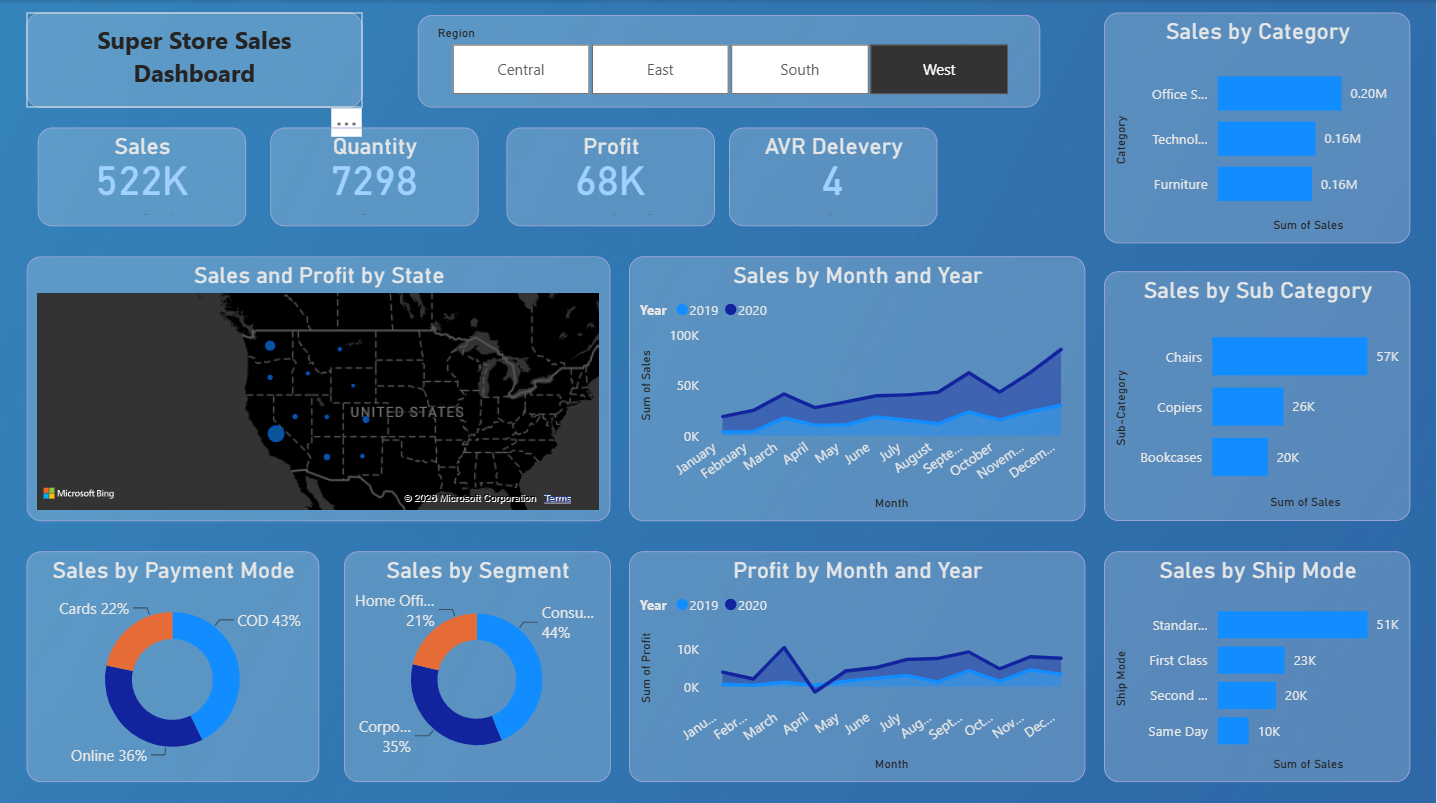

The page's visual inventory and layout, read from the dashboard file:
{"tool":"powerbi","page":{"name":"Page 1","canvas":[1280,720],"ordinal":0},"visuals":[{"type":"barChart","title":"Sales by Category","fields":{"Category":["Sheet1 (2).Category"],"Y":["Sum(Sheet1 (2).Sales)"]},"box":[983.9,11,273.1,205.8],"z":0},{"type":"barChart","title":"Sales by Sub Category","fields":{"Y":["Sum(Sheet1 (2).Sales)"],"Category":["Sheet1 (2).Sub-Category"]},"box":[983.9,241.5,273.1,222.3],"z":1000},{"type":"barChart","title":"Sales by Ship Mode","fields":{"Y":["Sum(Sheet1 (2).Sales)"],"Category":["Sheet1 (2).Ship Mode"]},"box":[983.9,491.3,273.1,205.8],"z":2000},{"type":"stackedAreaChart","title":"Sales by Month and Year","fields":{"Y":["Sum(Sheet1 (2).Sales)"],"Category":["Sheet1 (2).Order Date.Variation.Date Hierarchy.Month"],"Series":["Sheet1 (2).Order Date.Variation.Date Hierarchy.Year"]},"box":[561.2,227.8,406.2,236],"z":3000},{"type":"stackedAreaChart","title":"Profit by Month and Year","fields":{"Category":["Sheet1 (2).Order Date.Variation.Date Hierarchy.Month"],"Series":["Sheet1 (2).Order Date.Variation.Date Hierarchy.Year"],"Y":["Sum(Sheet1 (2).Profit)"]},"box":[561.2,491.3,406.2,205.8],"z":4000},{"type":"map","title":"Sales and Profit by State","fields":{"Category":["Sheet1 (2).State"],"Size":["Sum(Sheet1 (2).Sales)"]},"box":[24.7,227.8,520.1,236],"z":5000},{"type":"donutChart","title":"Sales by Segment","fields":{"Category":["Sheet1 (2).Segment"],"Y":["Sum(Sheet1 (2).Sales)"]},"box":[307.4,491.3,237.4,205.8],"z":6000},{"type":"donutChart","title":"Sales by Payment Mode","fields":{"Category":["Sheet1 (2).Payment Mode"],"Y":["Sum(Sheet1 (2).Sales)"]},"box":[24.7,491.3,260.7,205.8],"z":7000},{"type":"slicer","fields":{"Values":["Sheet1 (2).Region"]},"box":[373.2,13.7,554.4,82.3],"z":8000},{"type":"textbox","box":[24.7,11,299.1,85.1],"z":9000},{"type":"card","title":"Sales","fields":{"Values":["Sum(Sheet1 (2).Sales)"]},"box":[34.3,113.9,185.2,87.8],"z":10000},{"type":"card","title":"Quantity","fields":{"Values":["Sum(Sheet1 (2).Quantity)"]},"box":[241.5,113.9,185.2,87.8],"z":11000},{"type":"card","title":"Profit","fields":{"Values":["Sum(Sheet1 (2).Profit)"]},"box":[451.5,113.9,185.2,87.8],"z":12000},{"type":"card","title":"AVR Delevery","fields":{"Values":["Avg(Sheet1 (2).Average Delevery)"]},"box":[650.4,113.9,185.2,87.8],"z":13000}]}

Visuals, with their boxes in screenshot pixels (x1, y1, x2, y2), scaled from the page's 1280x720 canvas onto the 1437x803 screenshot:
"Sales by Category" barChart: BBox(1105, 12, 1411, 242)
"Sales by Sub Category" barChart: BBox(1105, 269, 1411, 517)
"Sales by Ship Mode" barChart: BBox(1105, 548, 1411, 777)
"Sales by Month and Year" stackedAreaChart: BBox(630, 254, 1086, 517)
"Profit by Month and Year" stackedAreaChart: BBox(630, 548, 1086, 777)
"Sales and Profit by State" map: BBox(28, 254, 612, 517)
"Sales by Segment" donutChart: BBox(345, 548, 612, 777)
"Sales by Payment Mode" donutChart: BBox(28, 548, 320, 777)
slicer - Sheet1 (2).Region: BBox(419, 15, 1041, 107)
textbox: BBox(28, 12, 364, 107)
"Sales" card: BBox(39, 127, 246, 225)
"Quantity" card: BBox(271, 127, 479, 225)
"Profit" card: BBox(507, 127, 715, 225)
"AVR Delevery" card: BBox(730, 127, 938, 225)
